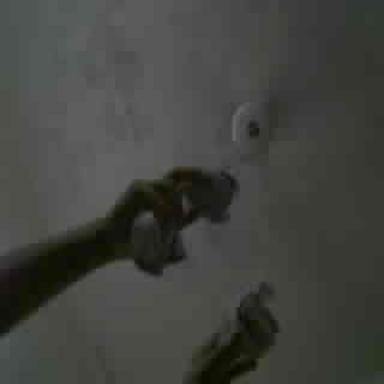paper: (220, 283, 277, 360), (133, 213, 185, 272), (186, 171, 236, 222)
